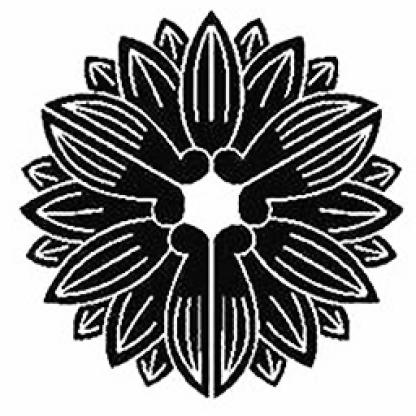kamon: (18, 10, 406, 398)
